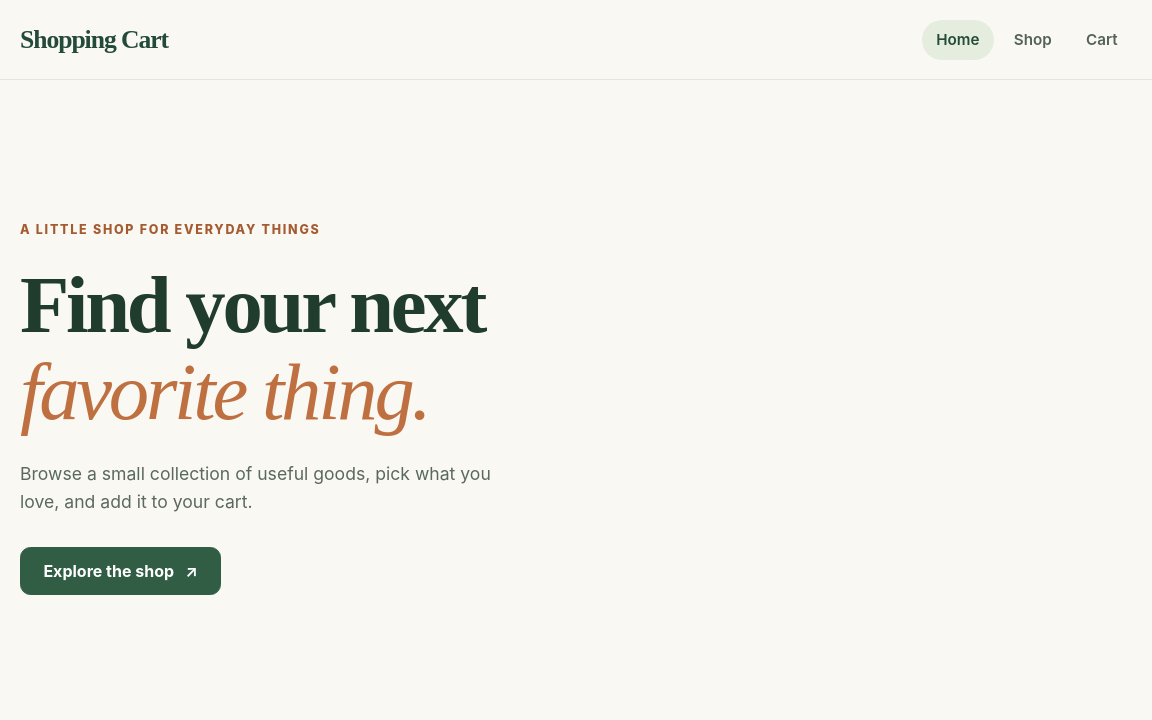
Test: shopping flow › keeps other products in the cart when one product is removed
Click the link "Explore the shop ↗": coordinates (121, 571) [20,547,221,595]
(page scrolled)
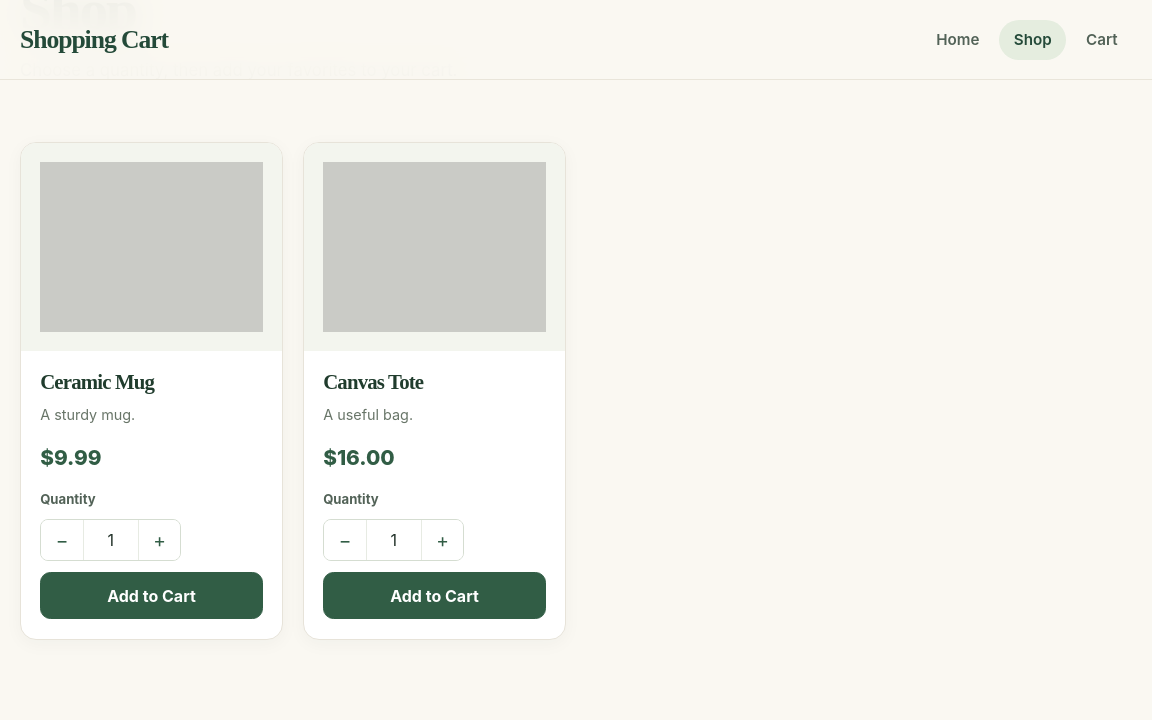
Expected: the heading "Ceramic Mug" is shown, [40,370,154,393]
Click the button "Add to Cart" below "9.99": coordinates (152, 596) [40,572,263,619]
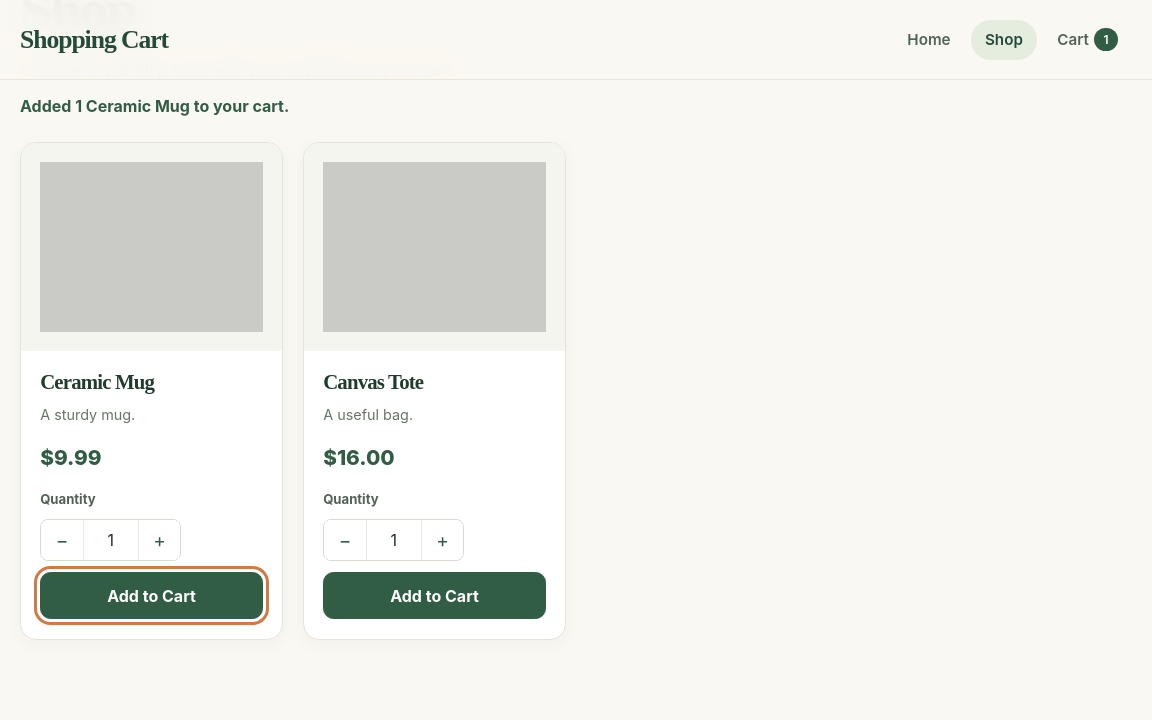
Click the button "Add to Cart" below "16.00": coordinates (434, 596) [323,572,546,619]
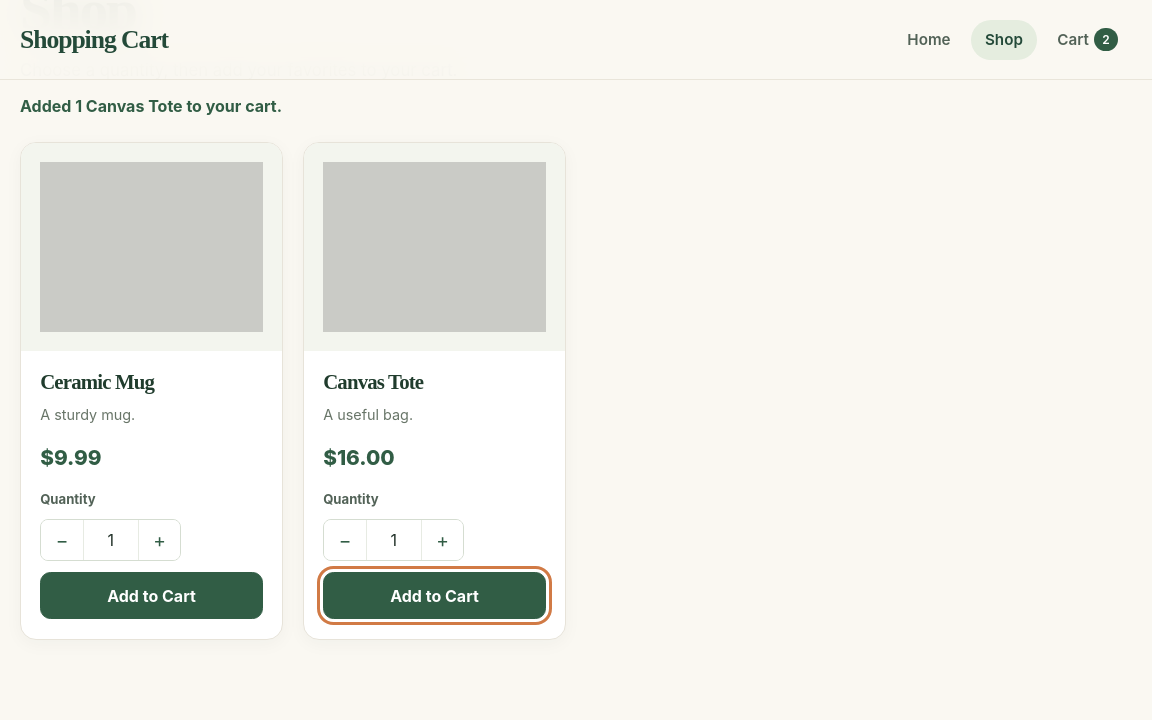
Expected: the link "Cart 2" is shown
Click the link "Cart 2": coordinates (1088, 40) [1057,28,1118,51]
(page scrolled)
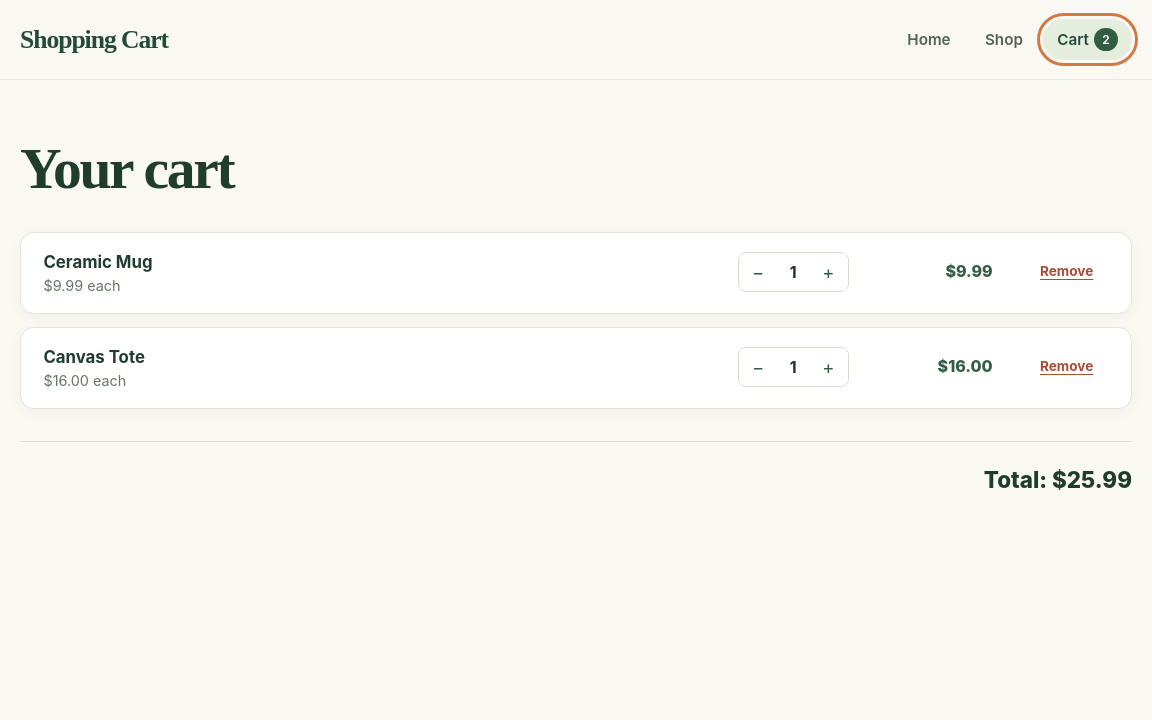
Expected: the text "Total: $25.99" is shown, [20,441,1132,497]
Expected: the buttons "Remove " read "Remove", "Remove", in this order
Click the button with aria-label "Remove Ceramic Mug": coordinates (1067, 271) [1025,252,1109,290]
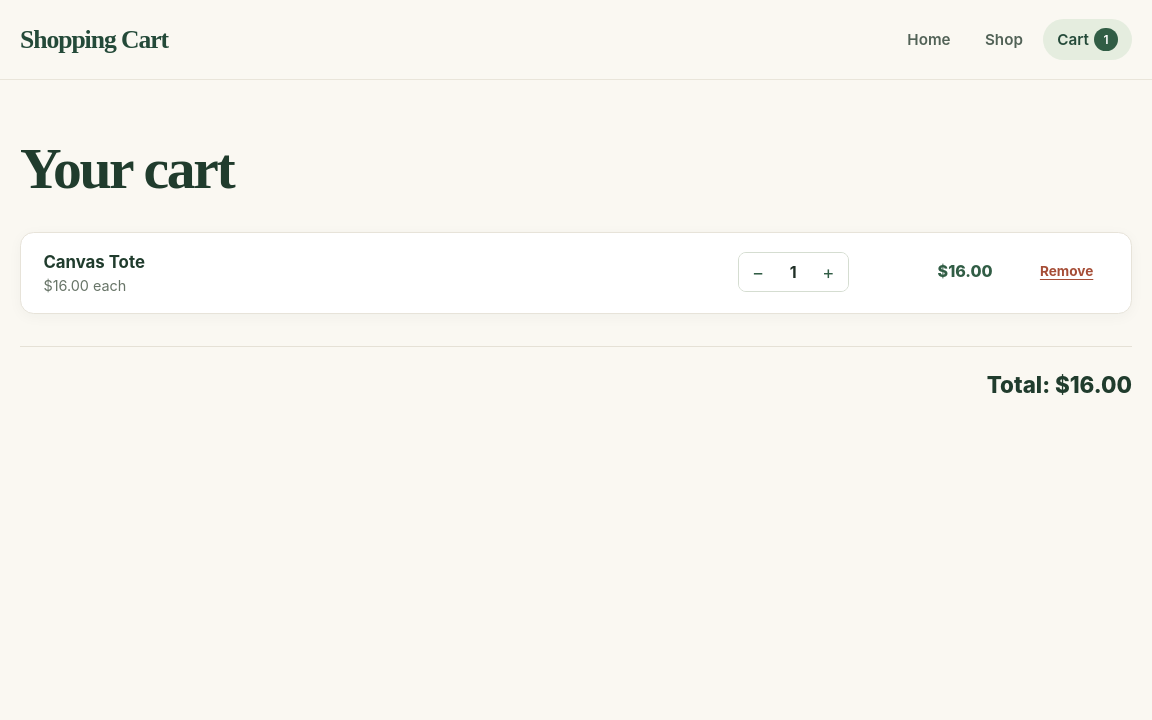
Expected: the text "Canvas Tote" is shown, [43,252,145,272]
Expected: the text "Ceramic Mug" is gone
Expected: the text "Total: $16.00" is shown, [20,346,1132,402]
